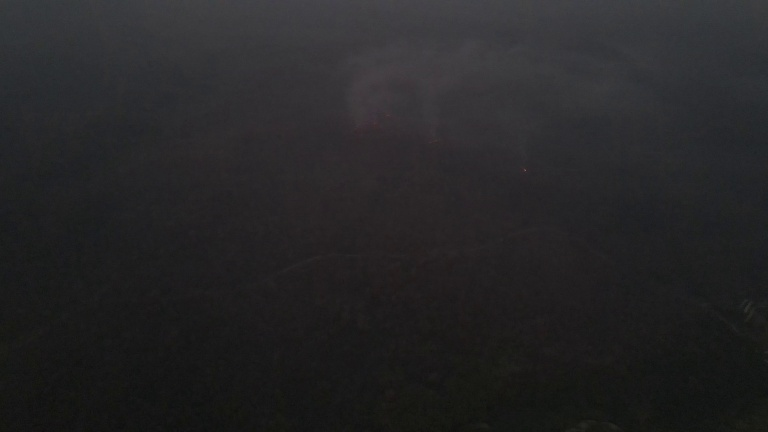fire: (520, 164, 533, 179)
smoke: (344, 29, 588, 143)
